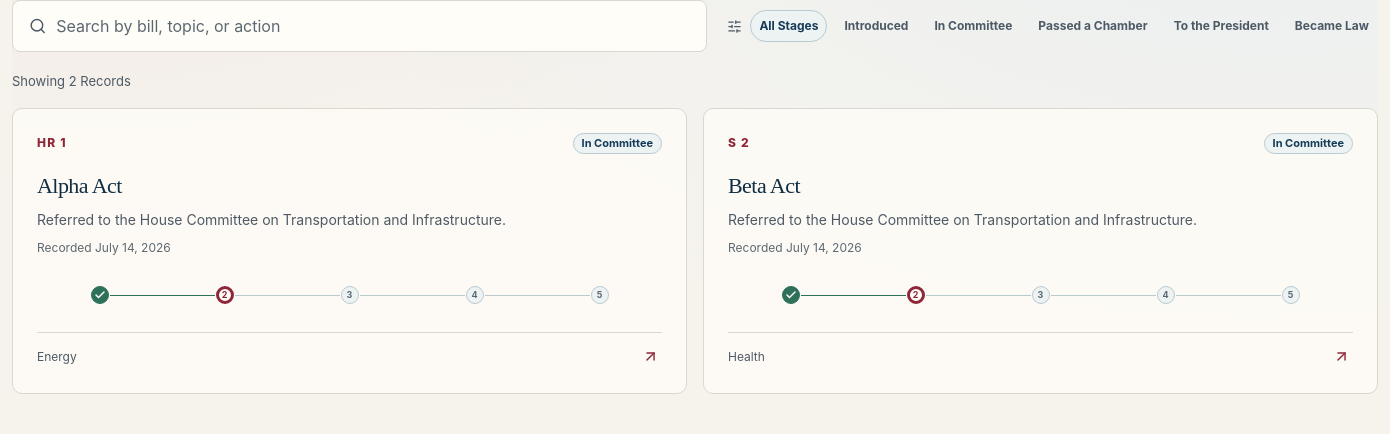
Test: BillDirectory › falls back to filtering already-loaded bills when the search route can't be reached
Type "energy" into the search field named "Search bill records".
click(372, 26); type("energy")  # box top-left (54, 13), bottom-right (690, 39)
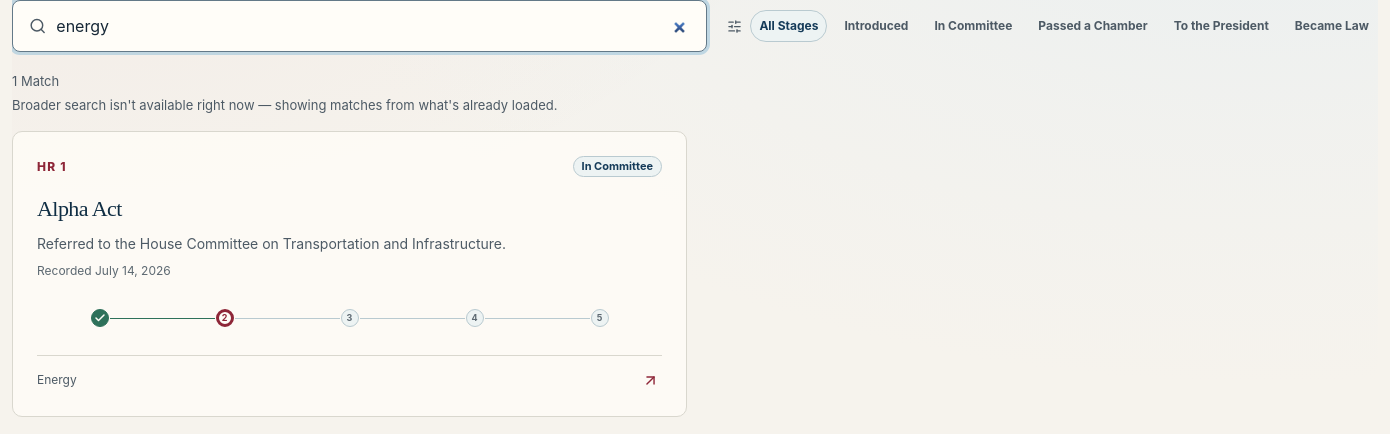
Expected: the link "Alpha Act" is shown, top-left (37, 196), bottom-right (122, 221)
Now the link "Beta Act" is gone
Now the text "Broader search isn't available right now" is shown, box top-left (12, 96), bottom-right (557, 112)
